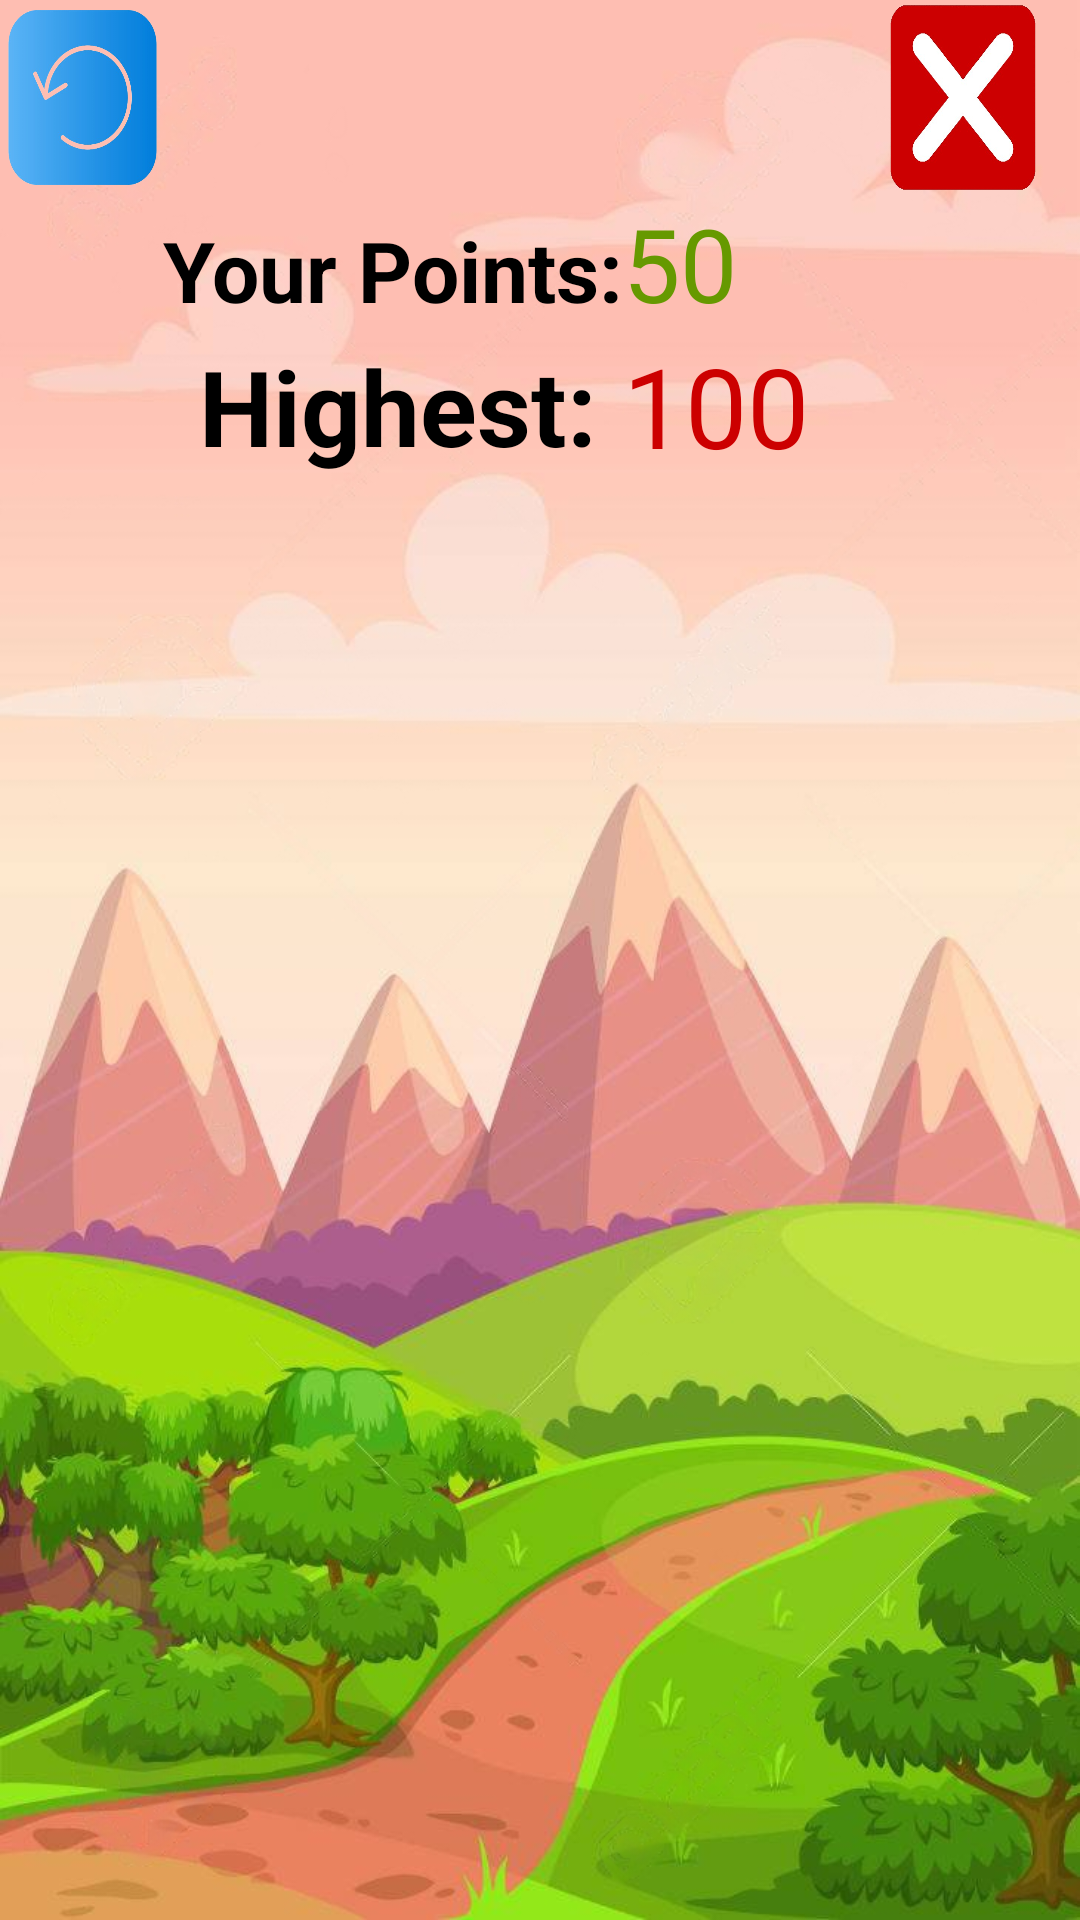

Locate icon controls on the screen. Image size 1080×1920, boxes as (x1, y1, x2, y2).
exit: (854, 5, 1043, 195)
restart: (8, 10, 157, 185)
